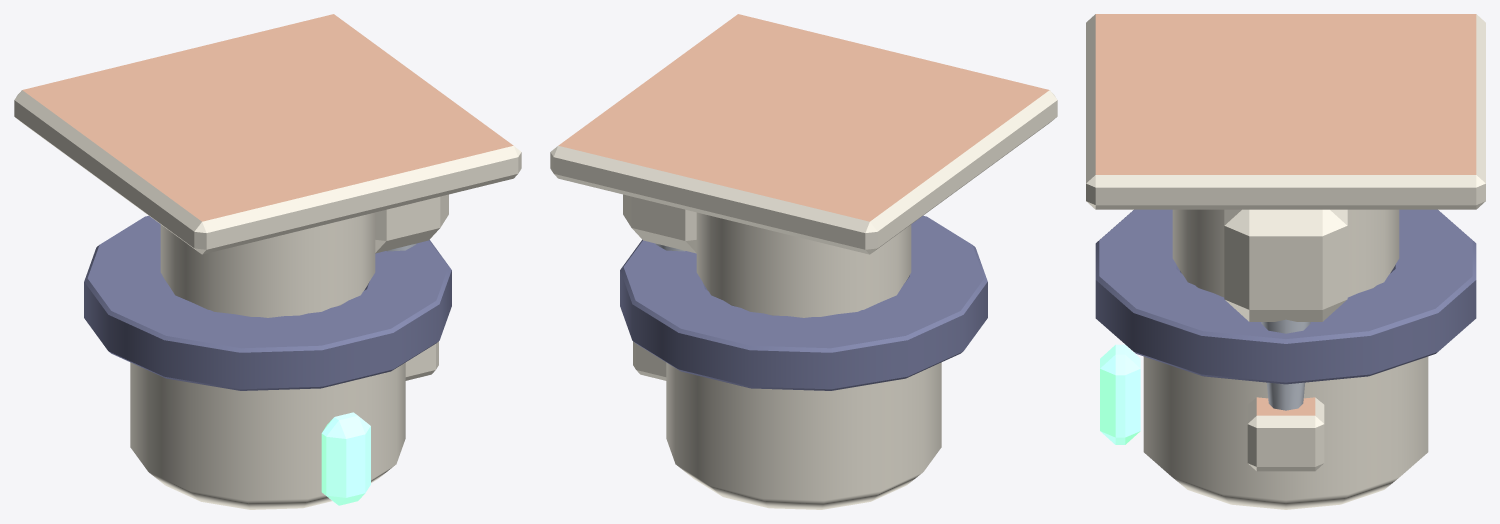
The model's file is R4X_IndependentSteering_LOD1.fbx.
3 views of the same model, side by side, from view 1: azimuth 30°, elevation 25°; view 2: azimuth 150°, elevation 25°; view 3: azimuth 270°, elevation 25° (orthographic). The views are drawn at different scales.
Visible parts, largest first — view 1: R4X_IndependentSteering_LOD1; view 2: R4X_IndependentSteering_LOD1; view 3: R4X_IndependentSteering_LOD1.
Part boxes in pixels (left/top/right/bottom): R4X_IndependentSteering_LOD1: left=14, top=14, right=521, bottom=509; R4X_IndependentSteering_LOD1: left=550, top=14, right=1057, bottom=509; R4X_IndependentSteering_LOD1: left=1086, top=14, right=1485, bottom=509.
Size of the model in its own units: 0.52 by 0.52 by 0.52.
